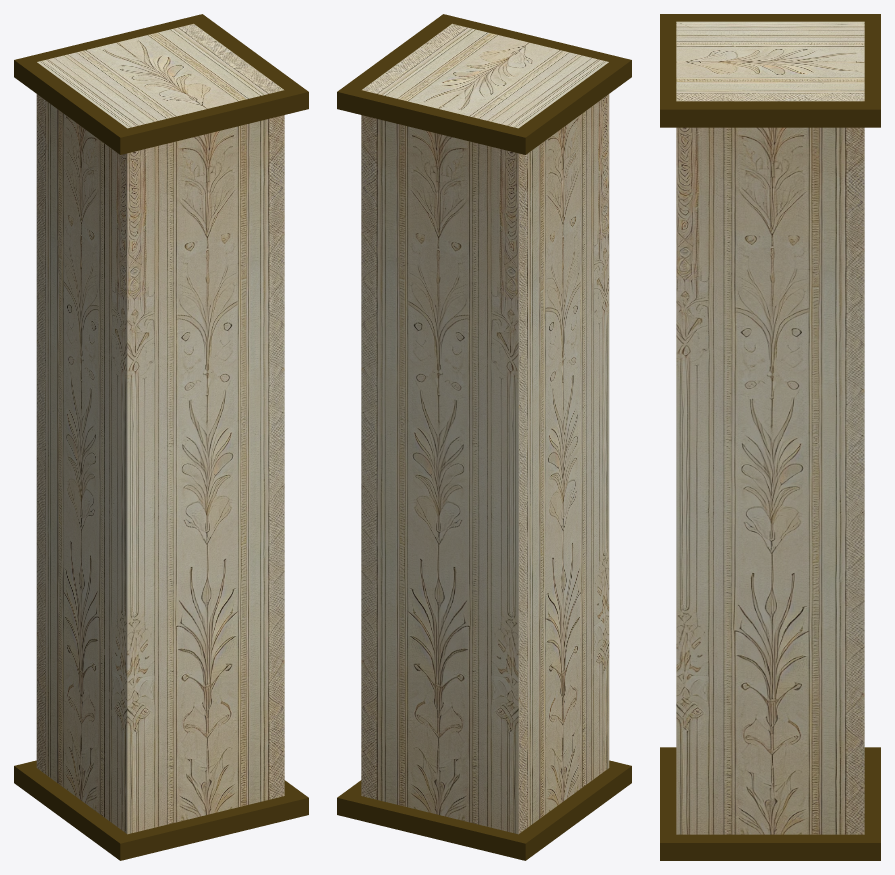
File: Column.fbx
3 views of the same model, side by side, from view 1: azimuth 30°, elevation 25°; view 2: azimuth 150°, elevation 25°; view 3: azimuth 270°, elevation 25° (orthographic). The views are drawn at different scales.
Visible parts, largest first — view 1: Cube.041, Cube.043, Cube.042; view 2: Cube.041, Cube.043, Cube.042; view 3: Cube.041, Cube.043, Cube.042.
Part boxes in pixels (x1=…): Cube.041: x1=36, y1=23, x2=284, y2=834; Cube.043: x1=14, y1=14, x2=308, y2=154; Cube.042: x1=14, y1=760, x2=308, y2=860; Cube.041: x1=361, y1=23, x2=609, y2=834; Cube.043: x1=337, y1=14, x2=631, y2=154; Cube.042: x1=337, y1=760, x2=631, y2=860; Cube.041: x1=676, y1=21, x2=864, y2=834; Cube.043: x1=660, y1=14, x2=880, y2=127; Cube.042: x1=660, y1=747, x2=880, y2=860.
Size of the model in its own units: 240 by 880 by 234.
